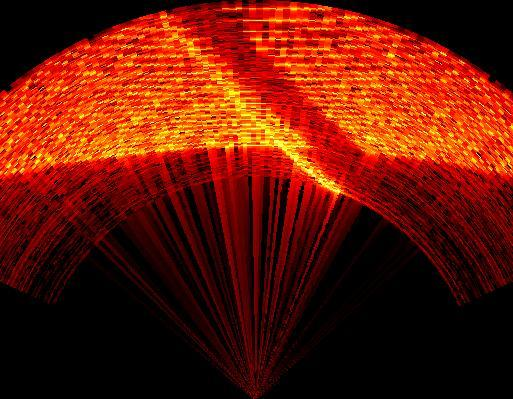pipe: (159, 6, 372, 194)
